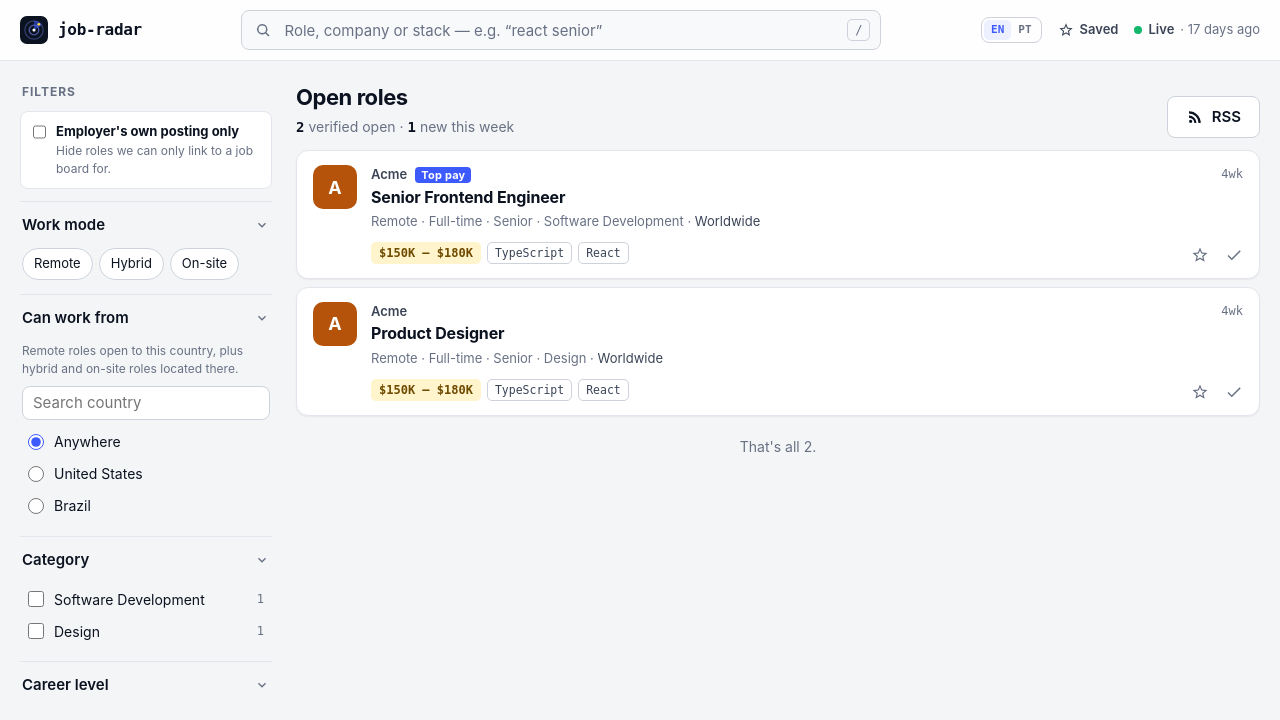
it: App › lists roles, filters from the sidebar and keeps filters in the URL
The width and height of the screenshot is (1280, 720).
Expected: the link "Senior Frontend Engineer" is shown, [371, 186, 565, 206]
Expected: the link "Product Designer" is shown, [371, 324, 504, 344]
Click the checkbox labelled "Design 1" at (36,631), box [28, 623, 44, 639]
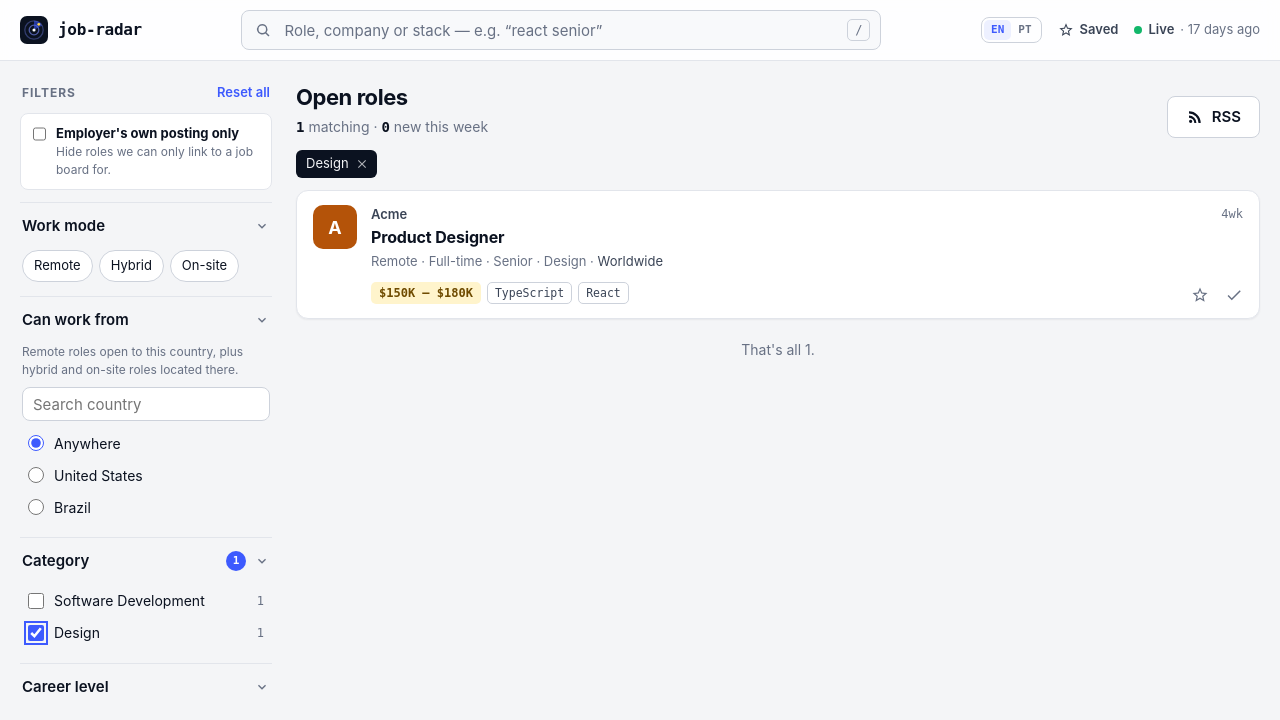
Result: the button with aria-label "Remove filter Design" is shown at [296, 150, 377, 178]
Result: the link "Senior Frontend Engineer" is gone
